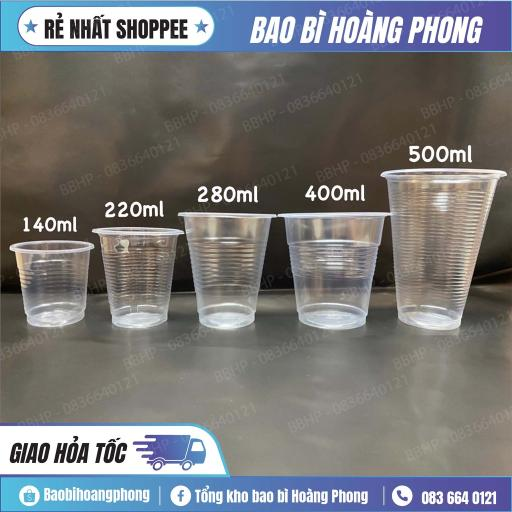cup: (382, 169, 504, 330), (280, 212, 390, 329), (180, 214, 274, 328), (93, 228, 182, 328), (10, 240, 94, 326)
